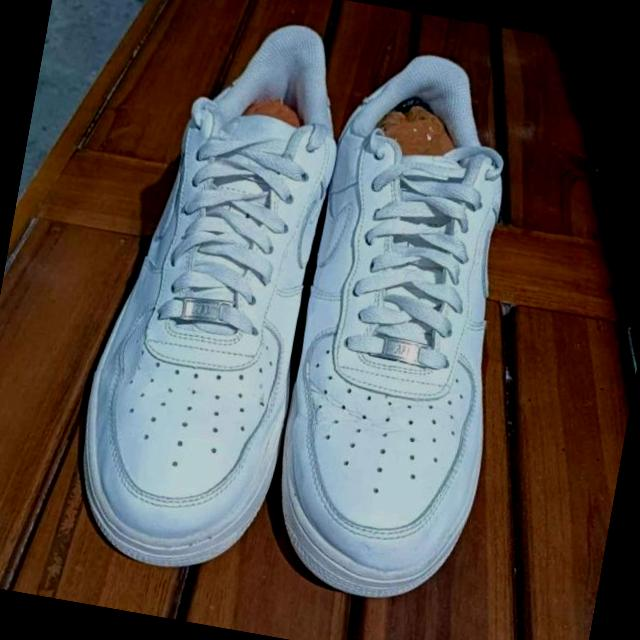nike_fake_airforce: (58, 0, 351, 583), (260, 36, 551, 614)
